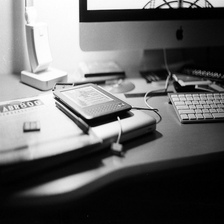laptop: (1, 86, 180, 162)
